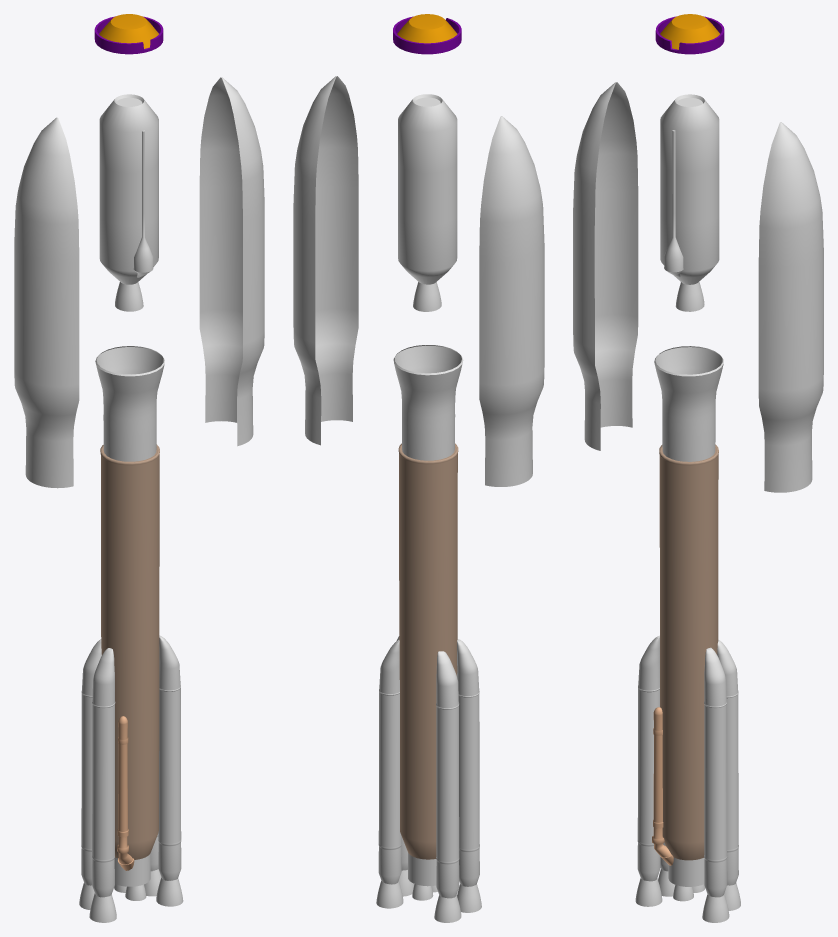
File: atlas sub.fbx
3 views of the same model, side by side, from view 1: azimuth 30°, elevation 25°; view 2: azimuth 150°, elevation 25°; view 3: azimuth 330°, elevation 25° (orthographic).
Visible parts, largest first — view 1: Rocket_Shell_Geo_01, Rocket_Shell_Geo_02, Stage_02_Rocket_Base_Geo, Centaur_Rocket_Geo, Rocket_Part_Geo_06, Rocker_Booster_Geo_01, Rocker_Booster_Geo_02, Rocker_Booster_Geo_03, Payload_Geo1, Stage_02_Part_Geo_01, Centaur_Part_Geo, Stage_02_Engine_Part_Geo (+3 smaller); view 2: Rocket_Shell_Geo_01, Rocket_Shell_Geo_02, Stage_02_Rocket_Base_Geo, Centaur_Rocket_Geo, Rocket_Part_Geo_06, Rocker_Booster_Geo_03, Rocker_Booster_Geo_01, Rocker_Booster_Geo_04, Payload_Geo1, Stage_02_Engine_Part_Geo, Centaur_Engine_Geo, Booster_Engine_Geo4 (+2 smaller); view 3: Rocket_Shell_Geo_02, Stage_02_Rocket_Base_Geo, Rocket_Shell_Geo_01, Centaur_Rocket_Geo, Rocket_Part_Geo_06, Rocker_Booster_Geo_02, Rocker_Booster_Geo_01, Rocker_Booster_Geo_04, Payload_Geo1, Stage_02_Part_Geo_01, Centaur_Part_Geo, Stage_02_Engine_Part_Geo (+3 smaller).
Boxes of the visible parts, <box> form: Rocket_Shell_Geo_01: <box>14,117,79,488</box>; Rocket_Shell_Geo_02: <box>199,77,264,446</box>; Stage_02_Rocket_Base_Geo: <box>100,444,159,859</box>; Centaur_Rocket_Geo: <box>99,94,158,284</box>; Rocket_Part_Geo_06: <box>95,346,164,461</box>; Rocker_Booster_Geo_01: <box>92,648,115,897</box>; Rocker_Booster_Geo_02: <box>158,635,181,880</box>; Rocker_Booster_Geo_03: <box>81,639,101,885</box>; Payload_Geo1: <box>94,14,163,54</box>; Stage_02_Part_Geo_01: <box>117,716,128,837</box>; Centaur_Part_Geo: <box>133,130,153,277</box>; Stage_02_Engine_Part_Geo: <box>114,853,150,886</box>; Rocket_Shell_Geo_01: <box>479,116,544,486</box>; Rocket_Shell_Geo_02: <box>293,76,358,445</box>; Stage_02_Rocket_Base_Geo: <box>398,443,458,859</box>; Centaur_Rocket_Geo: <box>398,94,457,284</box>; Rocket_Part_Geo_06: <box>393,345,463,460</box>; Rocker_Booster_Geo_03: <box>436,651,459,898</box>; Rocker_Booster_Geo_01: <box>457,639,479,886</box>; Rocker_Booster_Geo_04: <box>378,640,401,884</box>; Payload_Geo1: <box>393,14,461,54</box>; Stage_02_Engine_Part_Geo: <box>408,853,436,886</box>; Centaur_Engine_Geo: <box>413,282,441,311</box>; Booster_Engine_Geo4: <box>434,895,461,922</box>; Rocket_Shell_Geo_02: <box>758,122,823,492</box>; Stage_02_Rocket_Base_Geo: <box>659,444,718,860</box>; Rocket_Shell_Geo_01: <box>573,82,638,450</box>; Centaur_Rocket_Geo: <box>660,94,719,284</box>; Rocket_Part_Geo_06: <box>654,346,723,461</box>; Rocker_Booster_Geo_02: <box>704,647,727,897</box>; Rocker_Booster_Geo_01: <box>637,635,660,881</box>; Rocker_Booster_Geo_04: <box>717,640,738,885</box>; Payload_Geo1: <box>655,14,724,54</box>; Stage_02_Part_Geo_01: <box>653,707,663,828</box>; Centaur_Part_Geo: <box>664,130,683,277</box>; Stage_02_Engine_Part_Geo: <box>668,857,704,886</box>.
Bounding box in the file's own units: 4.88 × 17.22 × 1.54.
